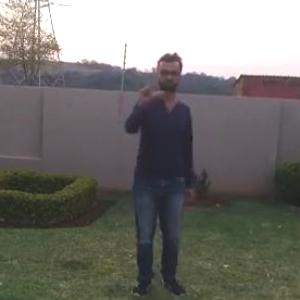land_hand: (133, 78, 162, 118)
